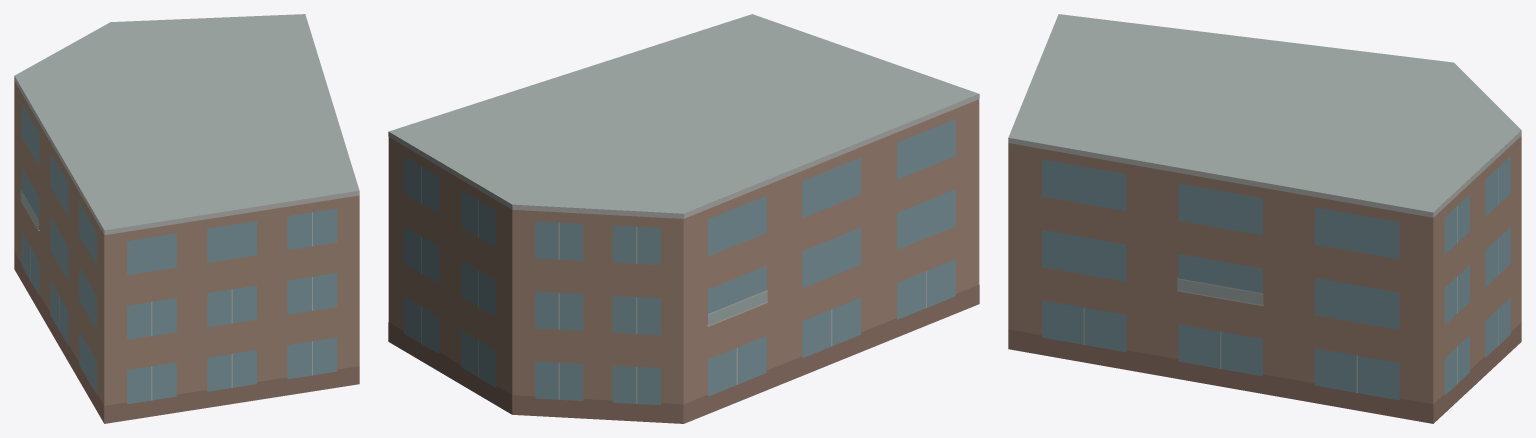
The model's file is survey-upis-32960558.glb.
The picture shows the model from 3 angles, left to right: view 1: azimuth 30°, elevation 25°; view 2: azimuth 150°, elevation 25°; view 3: azimuth 270°, elevation 25°; orthographic projection. The views are drawn at different scales.
Parts seen in each view (by area): view 1: survey-upis-32960558.tmp; view 2: survey-upis-32960558.tmp; view 3: survey-upis-32960558.tmp.
Part boxes in pixels (x1=…): survey-upis-32960558.tmp: x1=14, y1=14, x2=359, y2=423; survey-upis-32960558.tmp: x1=388, y1=14, x2=979, y2=423; survey-upis-32960558.tmp: x1=1008, y1=14, x2=1521, y2=423.
Bounding box in the file's own units: 19.81 × 9.83 × 21.65.
